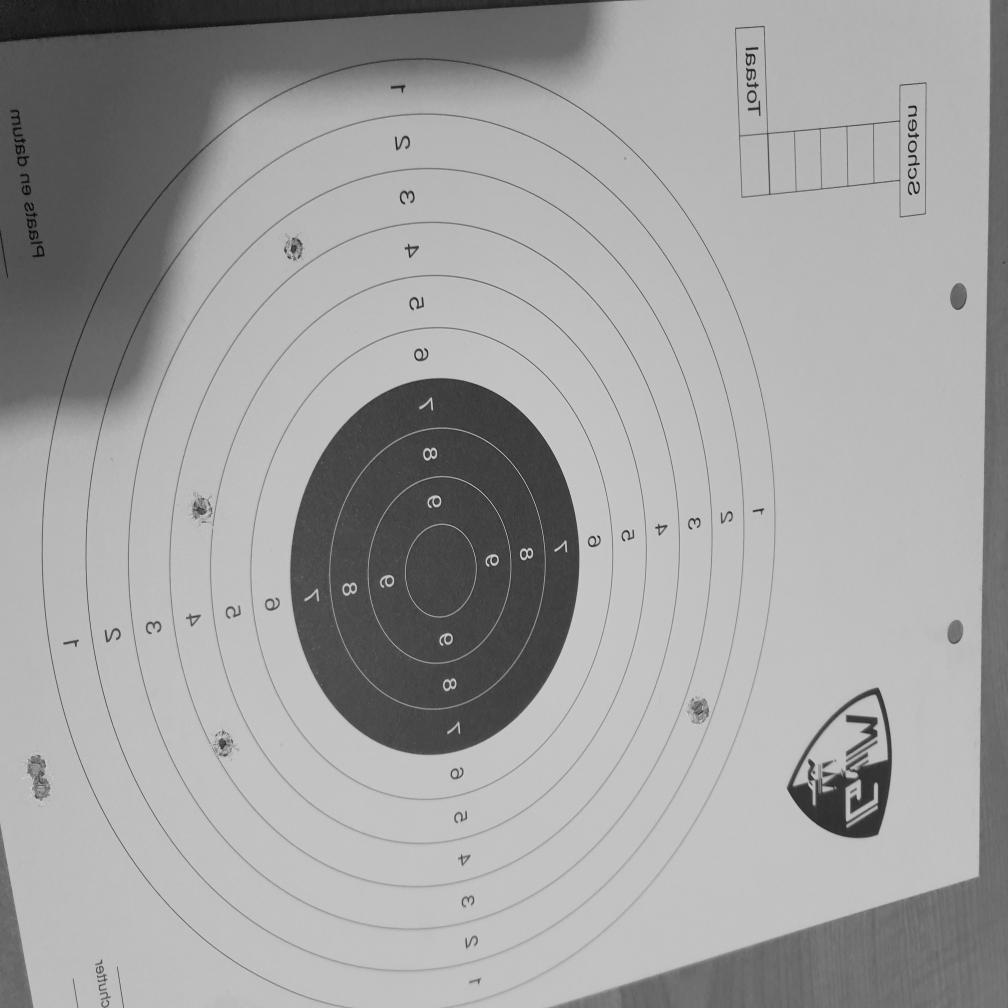0: (20, 751, 54, 778), (24, 778, 53, 806)
2: (686, 695, 710, 728)
3: (284, 231, 305, 262)
4: (208, 727, 240, 761), (188, 490, 213, 529)
Target: (40, 54, 774, 1004)
black_contour: (291, 377, 578, 755)
